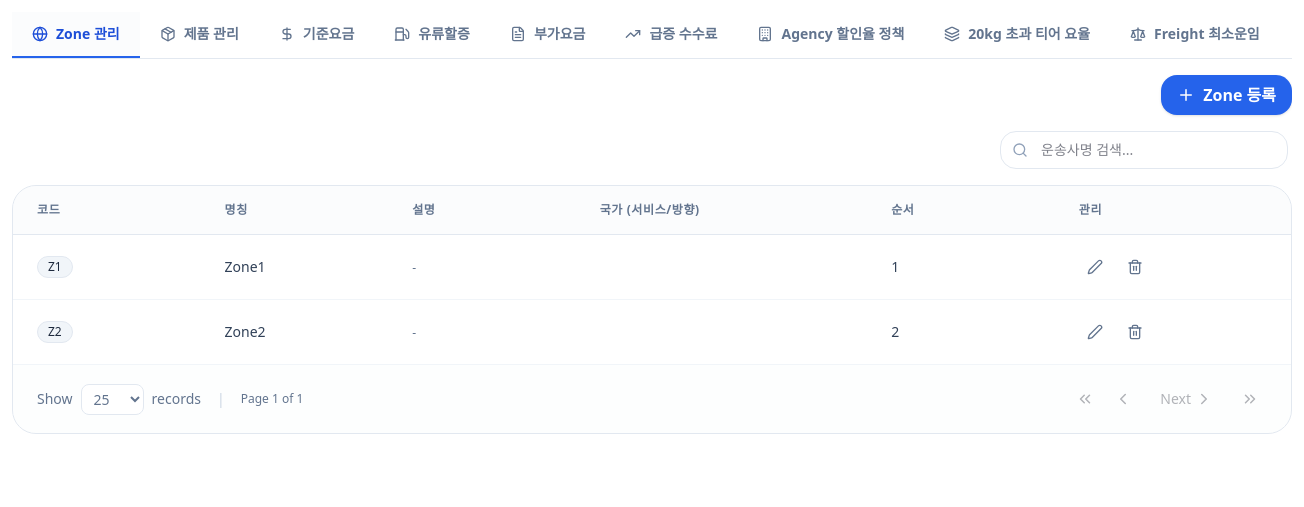
Test: TC-UPS-RATES-PIVOT-01: AgencyPolicyTable (agency_org_id, cargo_type) pivot › 동일 대리점의 서로 다른 cargo_type 정책이 별도 행으로 분리된다 (ALL/DOC/NON_DOC)
Click the button "Agency 할인율 정책" at (831, 35), box left=738, top=12, right=924, bottom=58
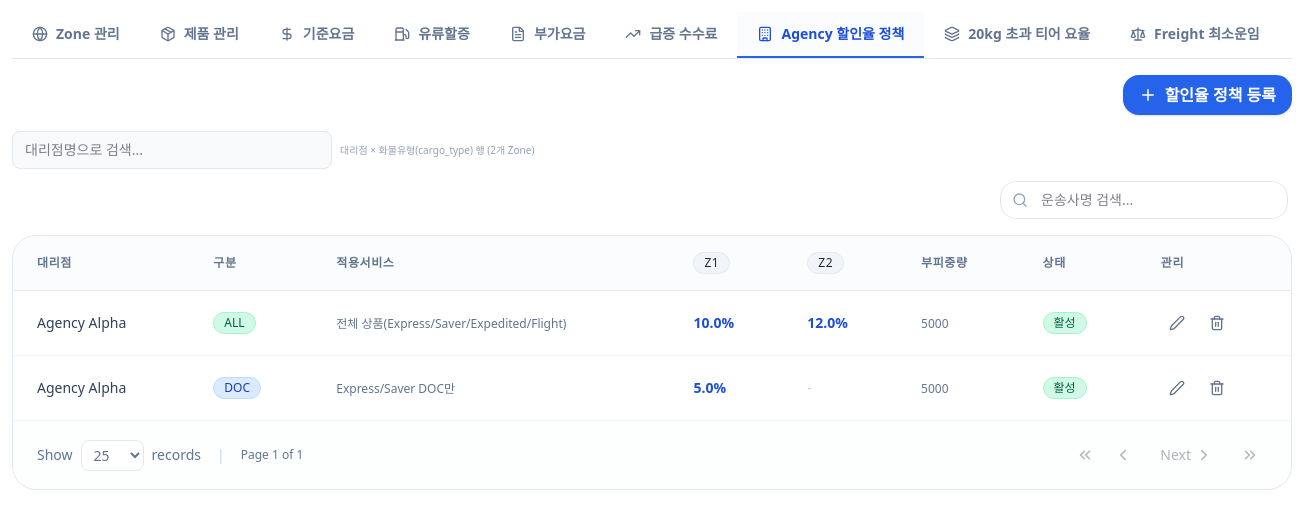
Expected: the text "Agency Alpha" next to "ALL" is shown, left=37, top=313, right=126, bottom=332
Expected: the text "Agency Alpha" is shown 2 times, left=37, top=313, right=126, bottom=332; left=37, top=378, right=126, bottom=397
Expected: the text "ALL" is shown once, left=213, top=312, right=256, bottom=334
